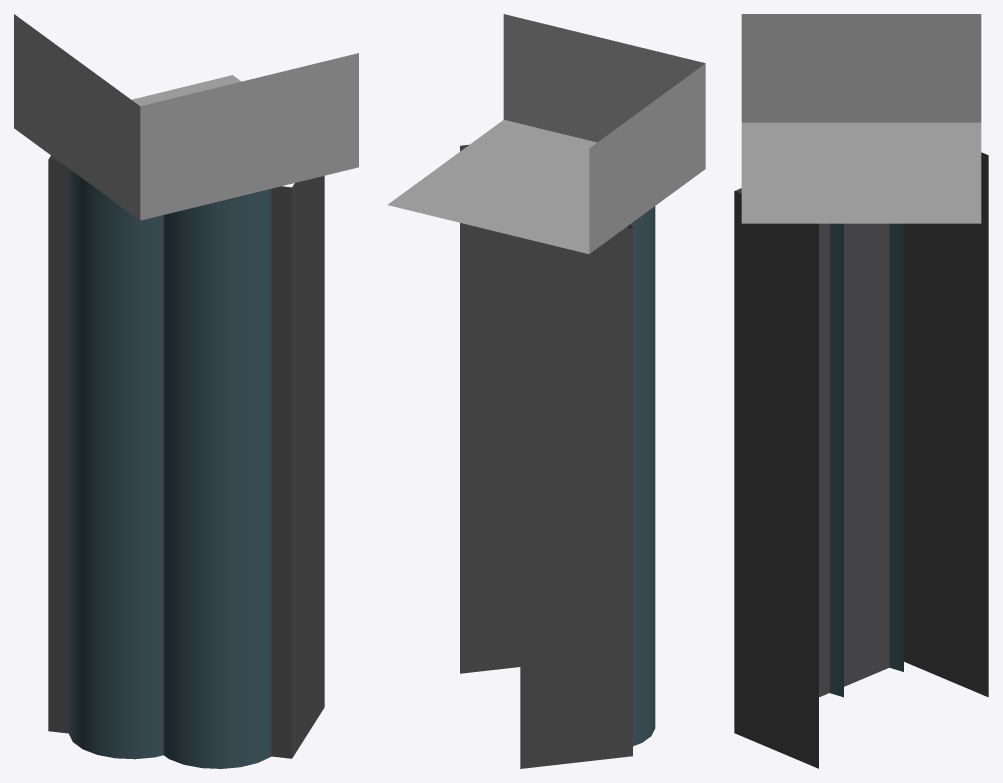
File: Upper Corner Textured.fbx
3 renders of one model, left to right at view 1: azimuth 30°, elevation 25°; view 2: azimuth 150°, elevation 25°; view 3: azimuth 270°, elevation 25°, orthographic. The views are drawn at different scales.
Visible parts, largest first — view 1: Upper_Corner; view 2: Upper_Corner; view 3: Upper_Corner.
Boxes of the visible parts, x1,y1,x2,y2 form: Upper_Corner: (14, 14, 358, 768); Upper_Corner: (387, 14, 705, 768); Upper_Corner: (734, 14, 988, 768).
Bounding box in the file's own units: 2.12 × 6 × 2.12.
